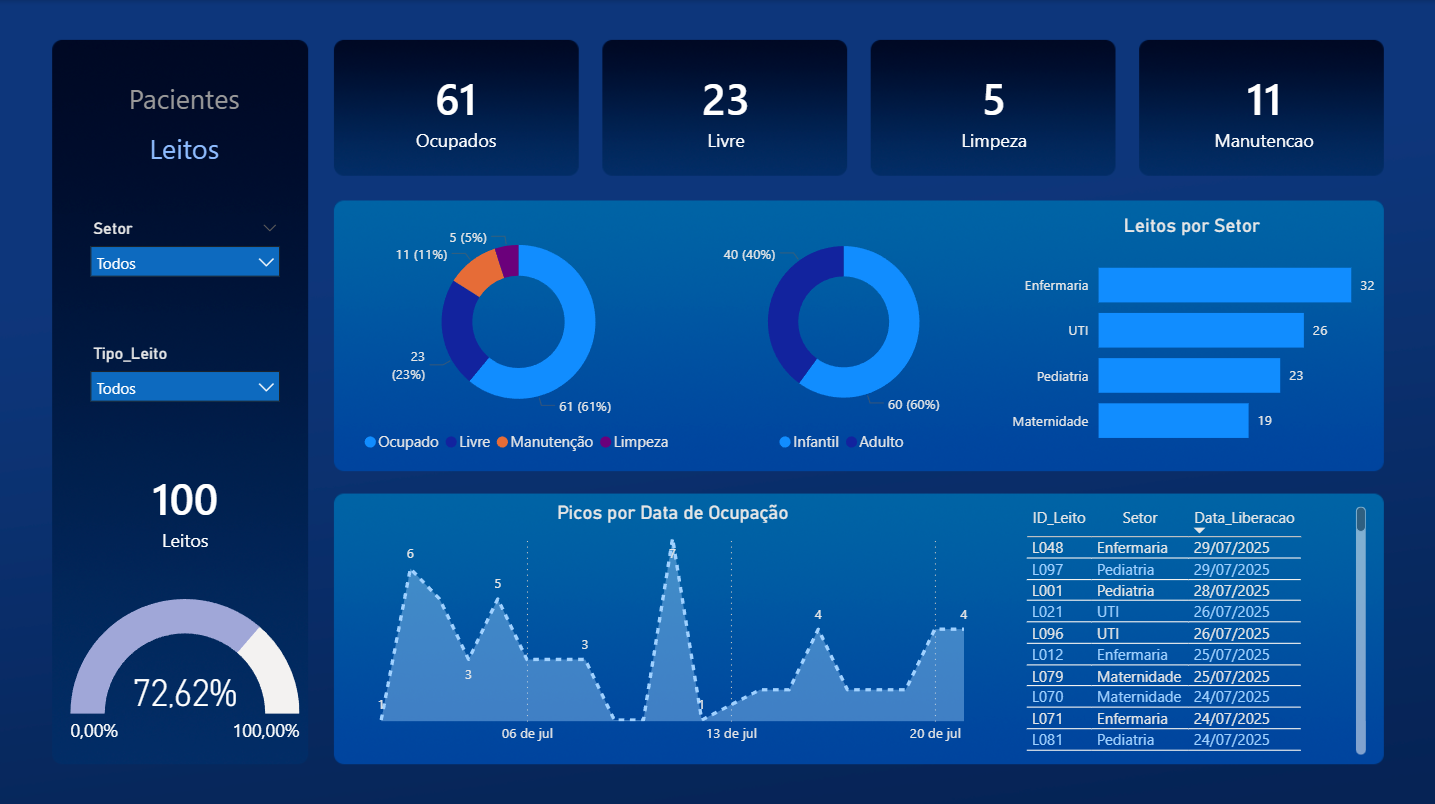

This screenshot's page, from the dashboard's own definition file:
{"tool":"powerbi","page":{"name":"Leitos","canvas":[1280,720],"ordinal":1},"visuals":[{"type":"cardVisual","fields":{"Data":["Métricas.Ocupados"]},"box":[311.5,45.3,189.4,105.7],"z":0},{"type":"cardVisual","fields":{"Data":["Métricas.Manutencao"]},"box":[1030.5,45.3,190.7,105.7],"z":1000},{"type":"cardVisual","fields":{"Data":["Métricas.Limpeza"]},"box":[790.4,45.3,190.7,105.7],"z":2000},{"type":"cardVisual","fields":{"Data":["Métricas.Livre"]},"box":[551.6,45.3,189.4,105.7],"z":3000},{"type":"clusteredBarChart","fields":{"Category":["Leitos.Setor"],"Y":["Métricas.Leitos"]},"box":[890.6,190.7,341.7,222.3],"z":4000},{"type":"cardVisual","fields":{"Data":["Métricas.Leitos"]},"box":[57.6,396.6,214.1,116.6],"z":5000},{"type":"gauge","fields":{"Y":["Métricas.Taxa Ocupação"]},"box":[57.6,524.2,214.1,152.3],"z":6000},{"type":"donutChart","fields":{"Y":["Métricas.Leitos"],"Category":["Leitos.Status"]},"box":[311.5,190.7,300.5,222.3],"z":7000},{"type":"donutChart","fields":{"Y":["Métricas.Leitos"],"Category":["Leitos.Tipo_Leito"]},"box":[612,190.7,278.6,222.3],"z":8000},{"type":"lineChart","title":"Picos por Data de Ocupação","fields":{"Category":["Leitos.Data_Ocupacao"],"Y":["Métricas.Leitos"]},"box":[311.5,446,575,225],"z":9000},{"type":"tableEx","fields":{"Values":["Leitos.ID_Leito","Leitos.Setor","Leitos.Data_Liberacao"]},"box":[908.4,446,312.9,230.5],"z":10000},{"type":"slicer","fields":{"Values":["Leitos.Setor"]},"box":[70,190.7,189.4,76.8],"z":11000},{"type":"slicer","fields":{"Values":["Leitos.Tipo_Leito"]},"box":[70,301.9,189.4,76.8],"z":12000},{"type":"textbox","box":[87.8,67.2,152.3,43.9],"z":13000},{"type":"textbox","box":[87.8,111.1,152.3,50.8],"z":14000},{"type":"shape","box":[71.5,68.1,183.8,49.4],"z":15000}]}

Visuals, with their boxes in screenshot pixels (x1, y1, x2, y2), scaled from the page's 1280x720 canvas onto the 1435x804 screenshot:
cardVisual - Métricas.Ocupados: x1=349 y1=51 x2=562 y2=169
cardVisual - Métricas.Manutencao: x1=1155 y1=51 x2=1369 y2=169
cardVisual - Métricas.Limpeza: x1=886 y1=51 x2=1100 y2=169
cardVisual - Métricas.Livre: x1=618 y1=51 x2=831 y2=169
clusteredBarChart - Leitos.Setor x Métricas.Leitos: x1=998 y1=213 x2=1382 y2=461
cardVisual - Métricas.Leitos: x1=65 y1=443 x2=305 y2=573
gauge - Métricas.Taxa Ocupação: x1=65 y1=585 x2=305 y2=755
donutChart - Métricas.Leitos x Leitos.Status: x1=349 y1=213 x2=686 y2=461
donutChart - Métricas.Leitos x Leitos.Tipo_Leito: x1=686 y1=213 x2=998 y2=461
"Picos por Data de Ocupação" lineChart: x1=349 y1=498 x2=994 y2=749
tableEx - Leitos.ID_Leito x Leitos.Setor: x1=1018 y1=498 x2=1369 y2=755
slicer - Leitos.Setor: x1=78 y1=213 x2=291 y2=299
slicer - Leitos.Tipo_Leito: x1=78 y1=337 x2=291 y2=423
textbox: x1=98 y1=75 x2=269 y2=124
textbox: x1=98 y1=124 x2=269 y2=181
shape: x1=80 y1=76 x2=286 y2=131
